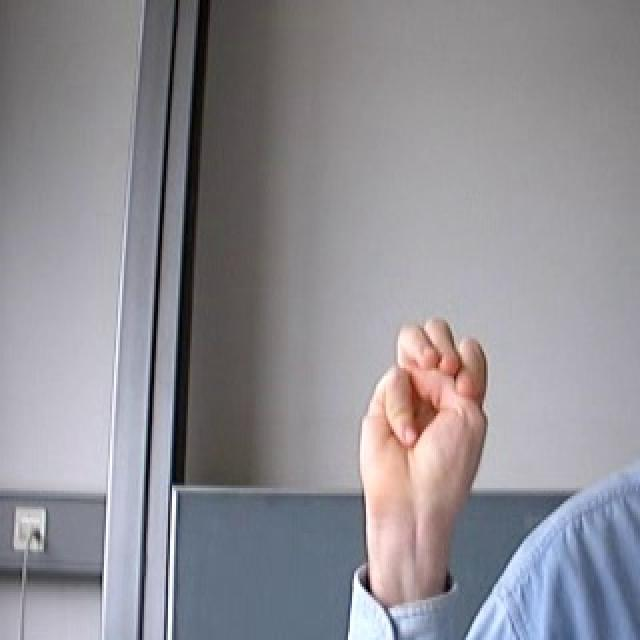M: (308, 297, 520, 582)
